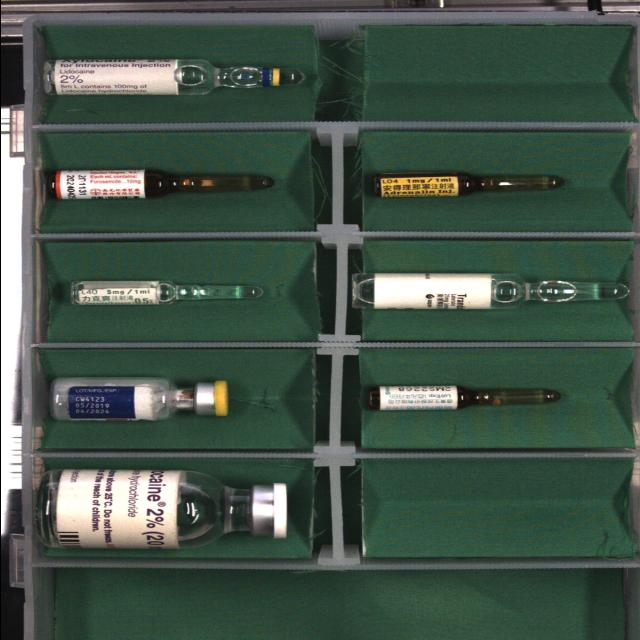Vials: (37, 470, 286, 549), (49, 377, 227, 420)
